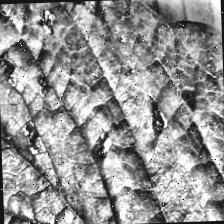Angular Leafspot: (0, 0, 224, 179)
